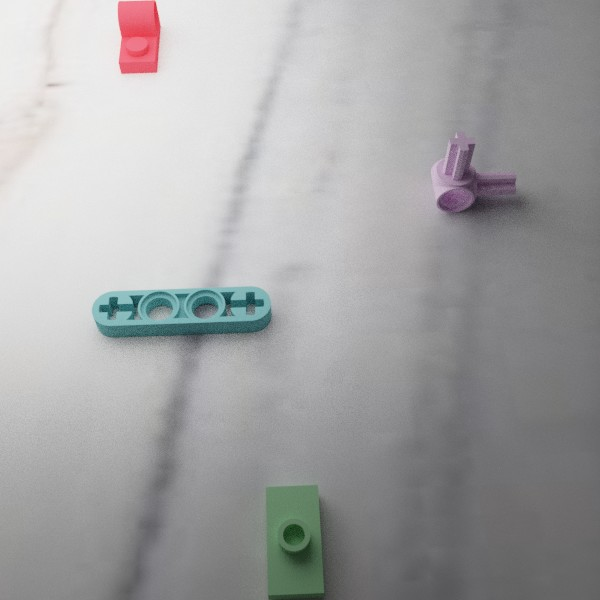lego: (91, 286, 271, 337), (430, 131, 516, 212), (265, 484, 324, 600), (117, 0, 160, 73)
